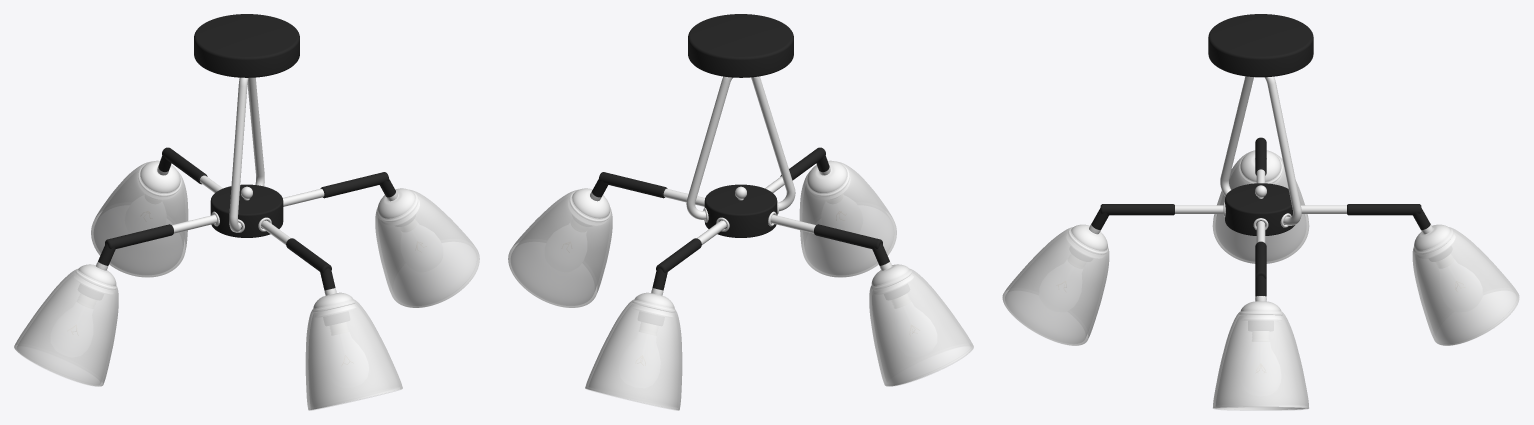
3 views of the same model, side by side, from view 1: azimuth 30°, elevation 25°; view 2: azimuth 150°, elevation 25°; view 3: azimuth 270°, elevation 25° (orthographic).
Parts seen in each view (by area): view 1: glass, black, chrome; view 2: glass, black, chrome; view 3: glass, black, chrome, glass_edge.
Part boxes in pixels (box(x1,y1,x2,y2)): glass: box(14, 161, 479, 410); black: box(98, 14, 395, 290); chrome: box(76, 77, 418, 312); glass: box(508, 161, 973, 410); black: box(592, 14, 889, 290); chrome: box(569, 76, 911, 312); glass: box(1002, 151, 1519, 409); black: box(1091, 14, 1430, 296); chrome: box(1068, 76, 1453, 315); glass_edge: box(1003, 230, 1518, 410).
Bounding box in the file's own units: 0.59 × 0.3804 × 0.59.
Materials: 8 (8 with a texture image).
